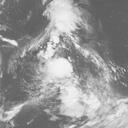cyclone: (38, 56, 84, 104)
